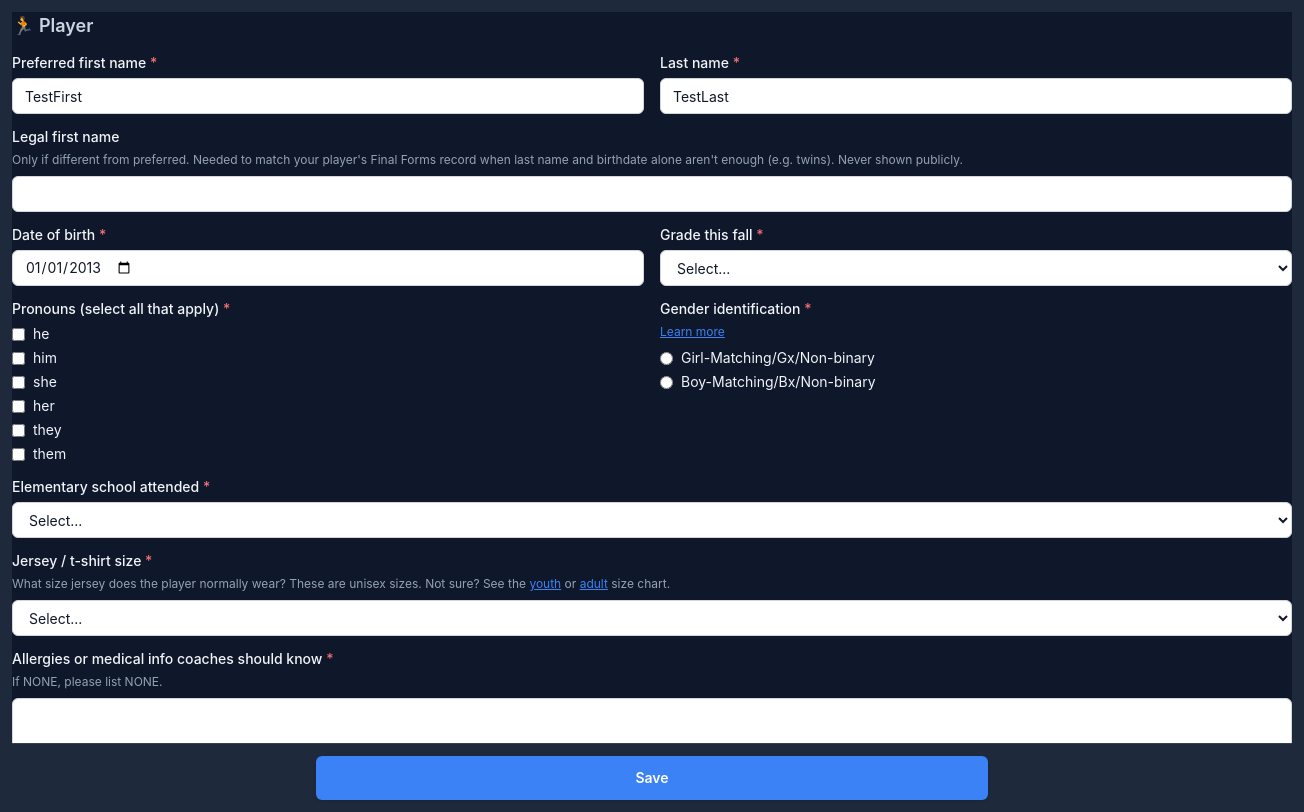
Test: PlayerProfileForm — Saved/error confirmation › does not carry a stale error into the next successful save
The width and height of the screenshot is (1304, 812).
Click the button "Save": (652,778) [316, 756, 988, 800]
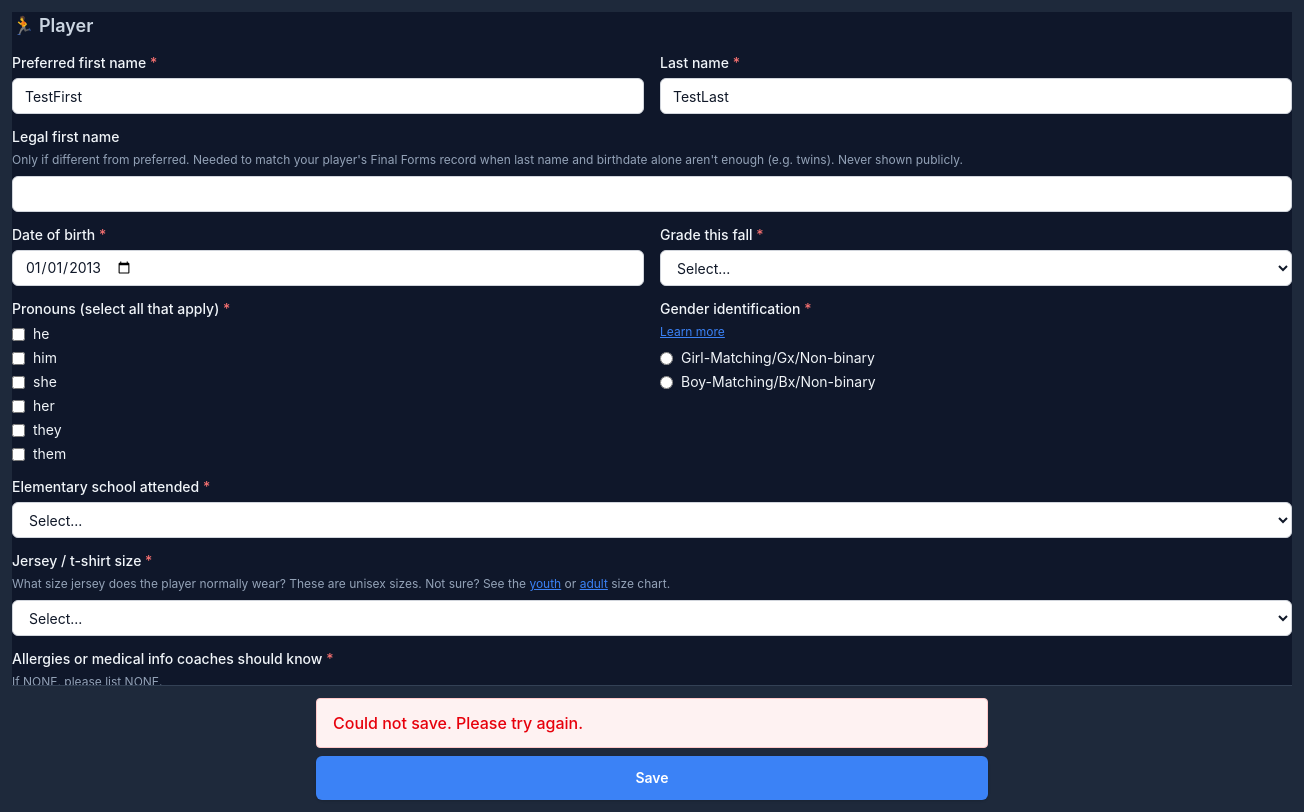
Result: the message "Could not save. Please try again." is shown at [316, 698, 988, 748]
Click the button "Save": (652,778) [316, 756, 988, 800]
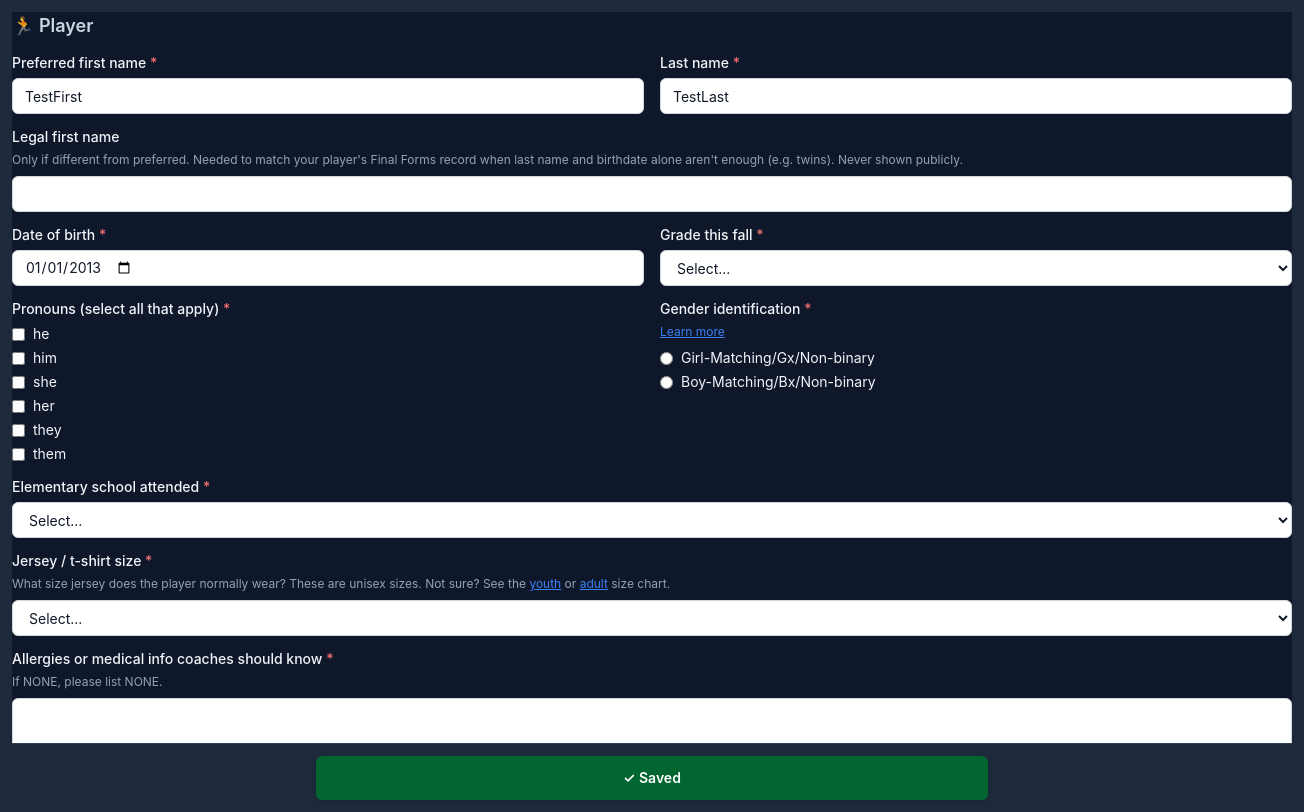
Result: the button "✓ Saved" is shown at [316, 756, 988, 800]
Result: the message "Could not save. Please try again." is gone
